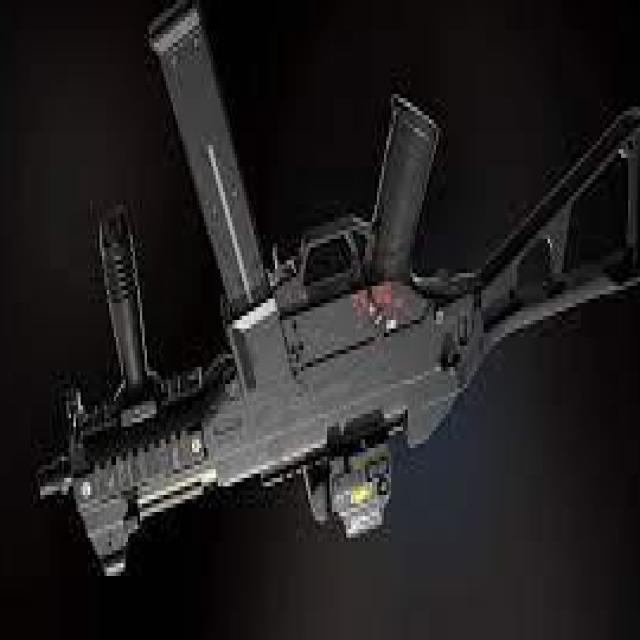Gun: (33, 0, 576, 589)
